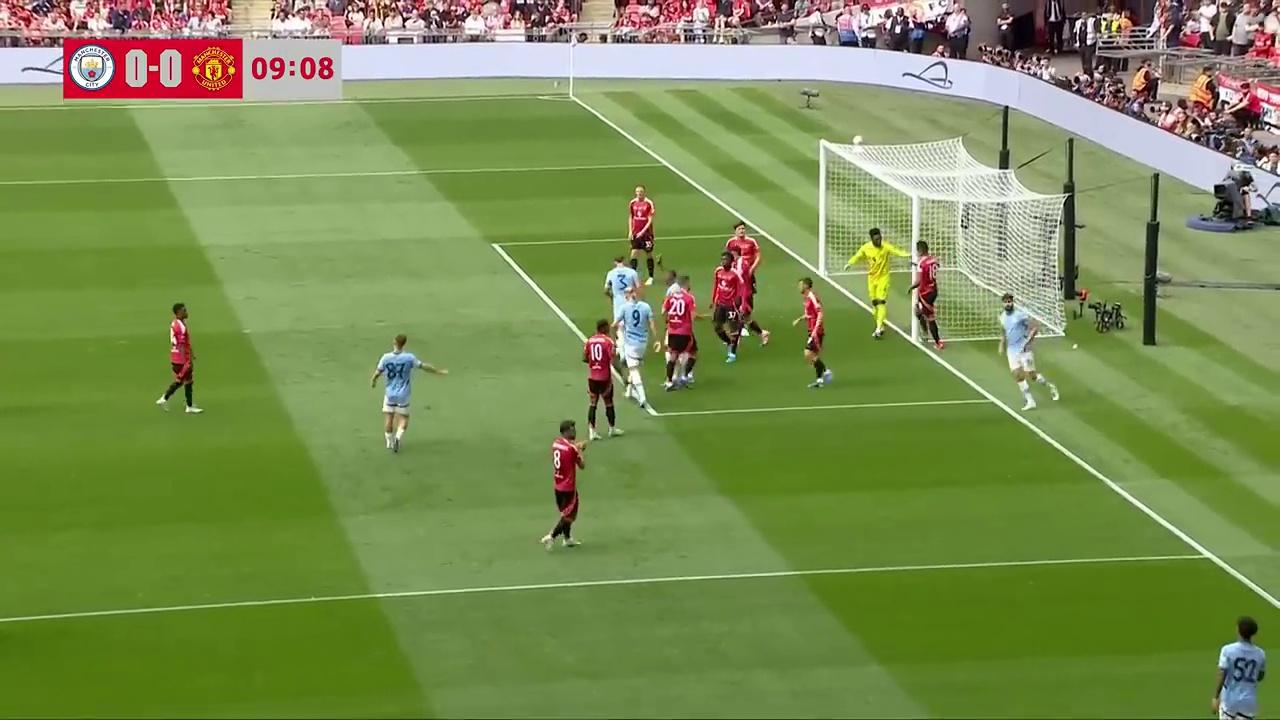player: (370, 335, 424, 451), (1209, 613, 1266, 720), (541, 420, 587, 550), (846, 223, 894, 340), (995, 289, 1038, 417), (155, 304, 201, 415), (581, 320, 621, 438), (717, 220, 761, 324), (660, 270, 698, 388), (793, 277, 833, 389), (624, 282, 660, 401), (709, 260, 747, 363), (911, 247, 944, 350), (627, 185, 658, 285), (603, 253, 638, 339)
